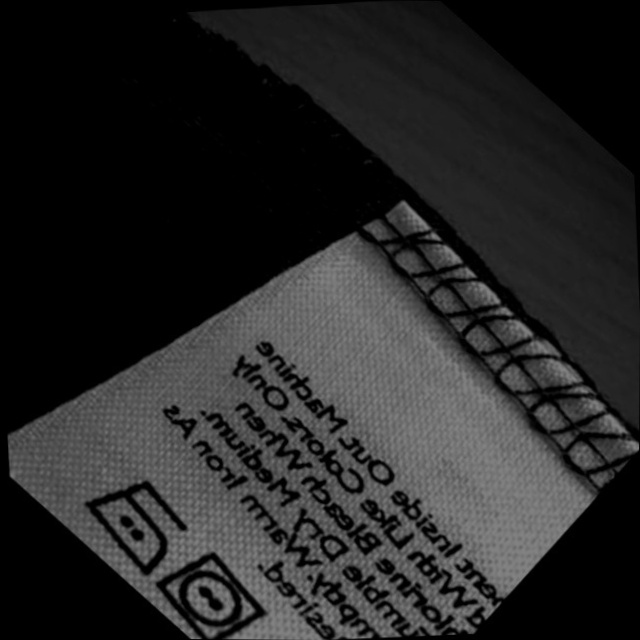iron_medium: (77, 477, 188, 576)
tumble_dry_medium: (151, 551, 266, 640)
